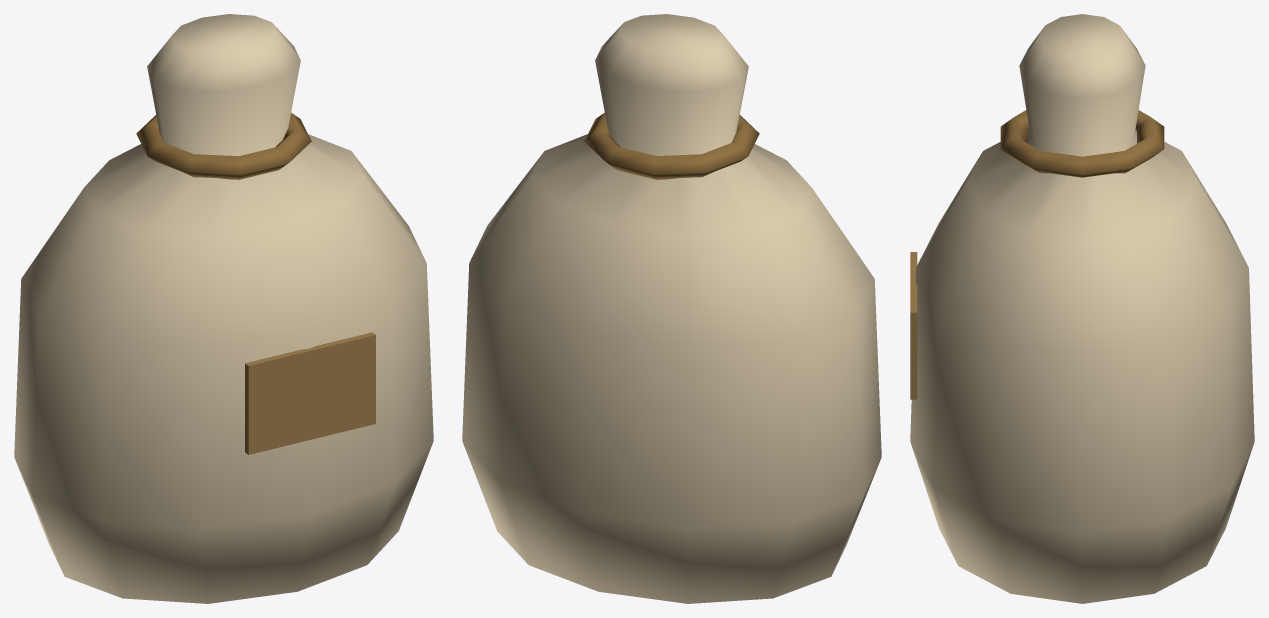
Rendered from Proc_RyeFlour.fbx.
3 renders of one model, left to right at view 1: azimuth 30°, elevation 25°; view 2: azimuth 150°, elevation 25°; view 3: azimuth 270°, elevation 25°, orthographic. The views are drawn at different scales.
Visible parts, largest first — view 1: Proc_RyeFlour__Stack; view 2: Proc_RyeFlour__Stack; view 3: Proc_RyeFlour__Stack.
Part boxes in pixels (box(x1,y1,x2,y2)): Proc_RyeFlour__Stack: box(14, 14, 433, 603); Proc_RyeFlour__Stack: box(462, 14, 881, 603); Proc_RyeFlour__Stack: box(910, 14, 1254, 603).
Size of the model in its own units: 0.216 by 0.272 by 0.1728.
